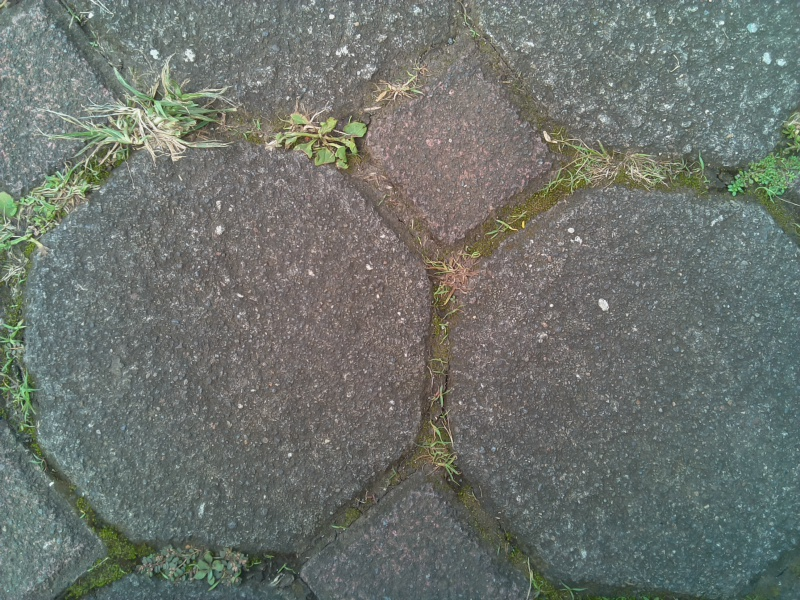Weed: (74, 74, 234, 161), (560, 134, 684, 196), (138, 537, 252, 591), (279, 108, 369, 174), (726, 151, 798, 203), (26, 168, 98, 220), (425, 241, 483, 305), (1, 185, 45, 255), (422, 425, 465, 483), (5, 371, 44, 427), (374, 75, 427, 106), (1, 321, 32, 366), (494, 209, 531, 241), (519, 556, 545, 599), (431, 379, 456, 411)
